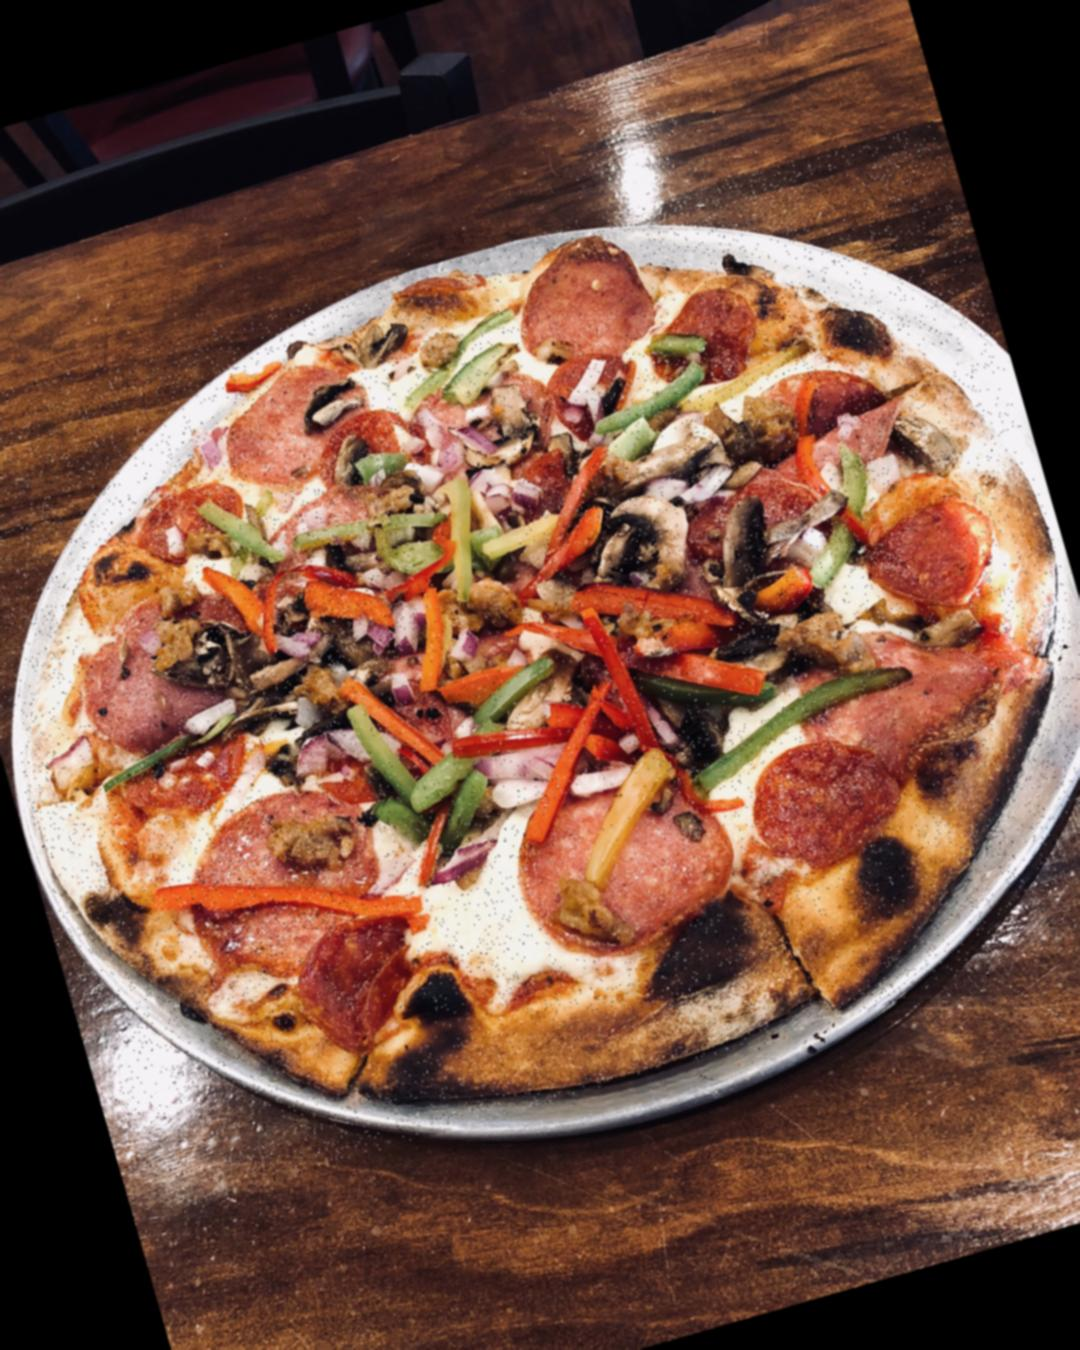Mushroom: (325, 573, 758, 832), (582, 415, 746, 528)
Pepperoni: (512, 750, 757, 960), (181, 767, 400, 994), (58, 601, 258, 767), (796, 604, 990, 773), (194, 347, 374, 497), (748, 345, 912, 499), (503, 229, 668, 379), (747, 720, 910, 867), (294, 907, 442, 1069), (847, 478, 997, 624), (100, 728, 257, 809), (256, 475, 396, 563), (668, 281, 764, 395)
Peppers: (245, 533, 426, 691), (396, 450, 536, 624), (115, 455, 256, 577)
Pizza: (0, 121, 1080, 1217)
